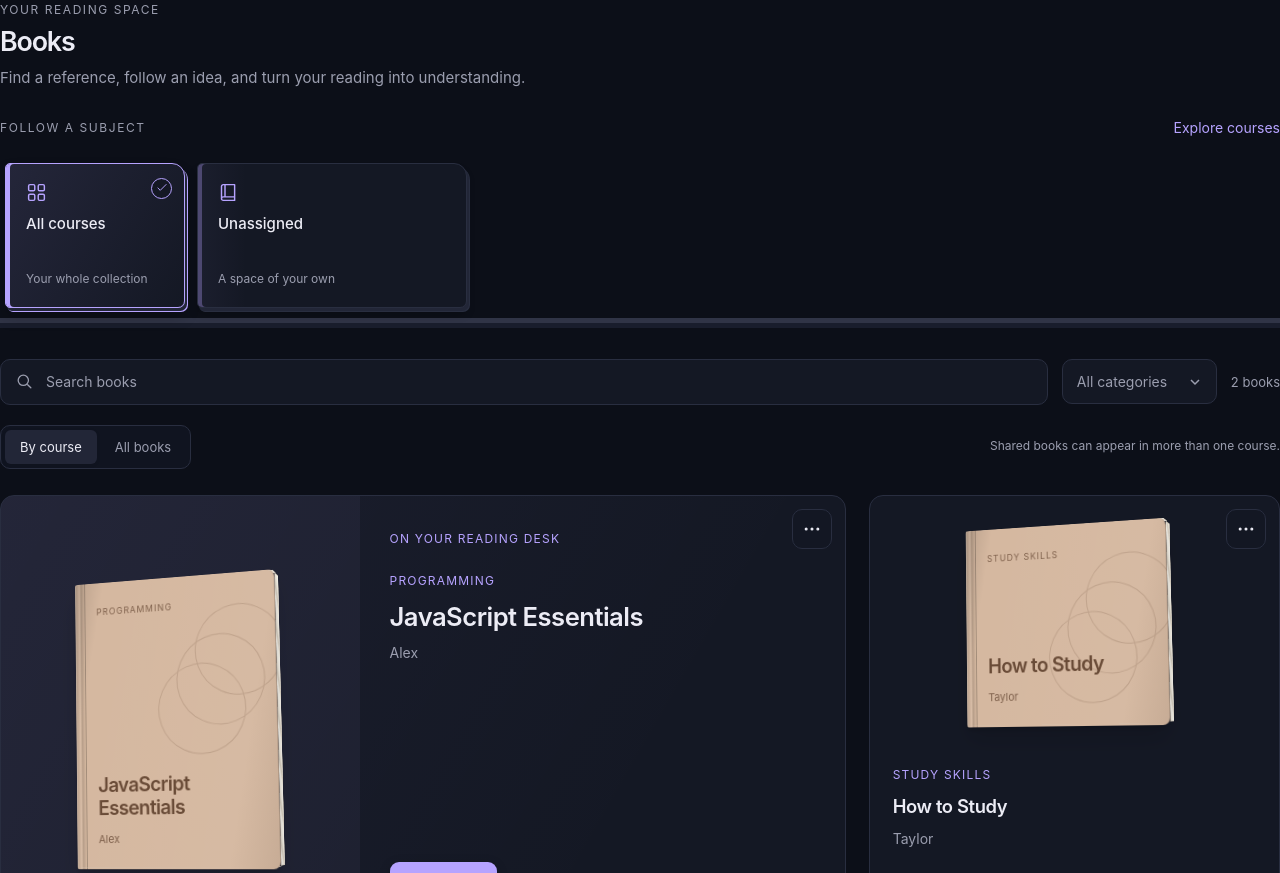
Test: organized collections › searches books by author and filters by category
This screenshot has width=1280, height=873.
Expected: the heading "JavaScript Essentials" is shown, [390,601,643,632]
Type "taylor" into the search field labelled "Search books" at (538, 382), box [44,360,1033,404]
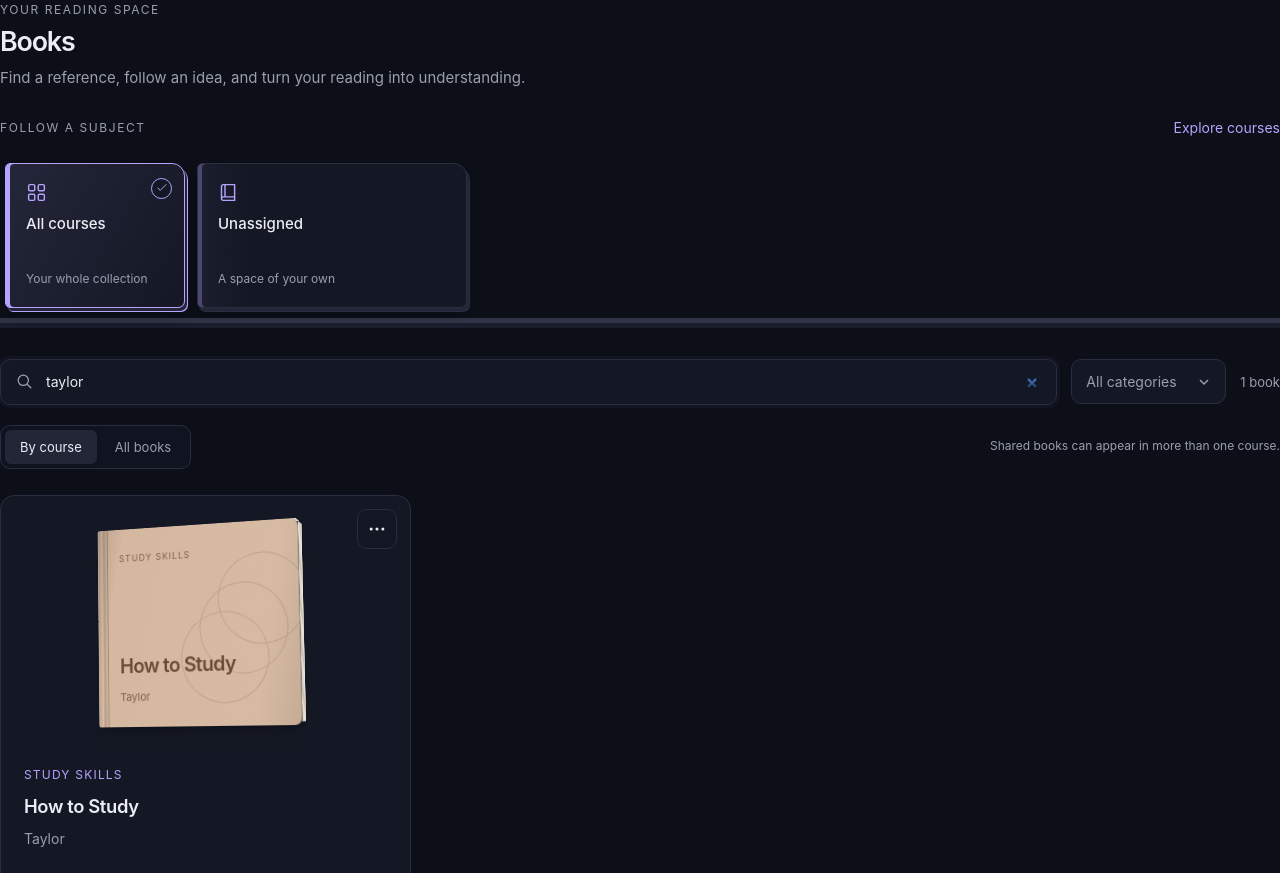
Expected: the heading "How to Study" is shown, [24,796,139,818]
Expected: the link "JavaScript Essentials" is gone
Clear the search field named "Search books" at (543, 382), box [44,360,1042,404]
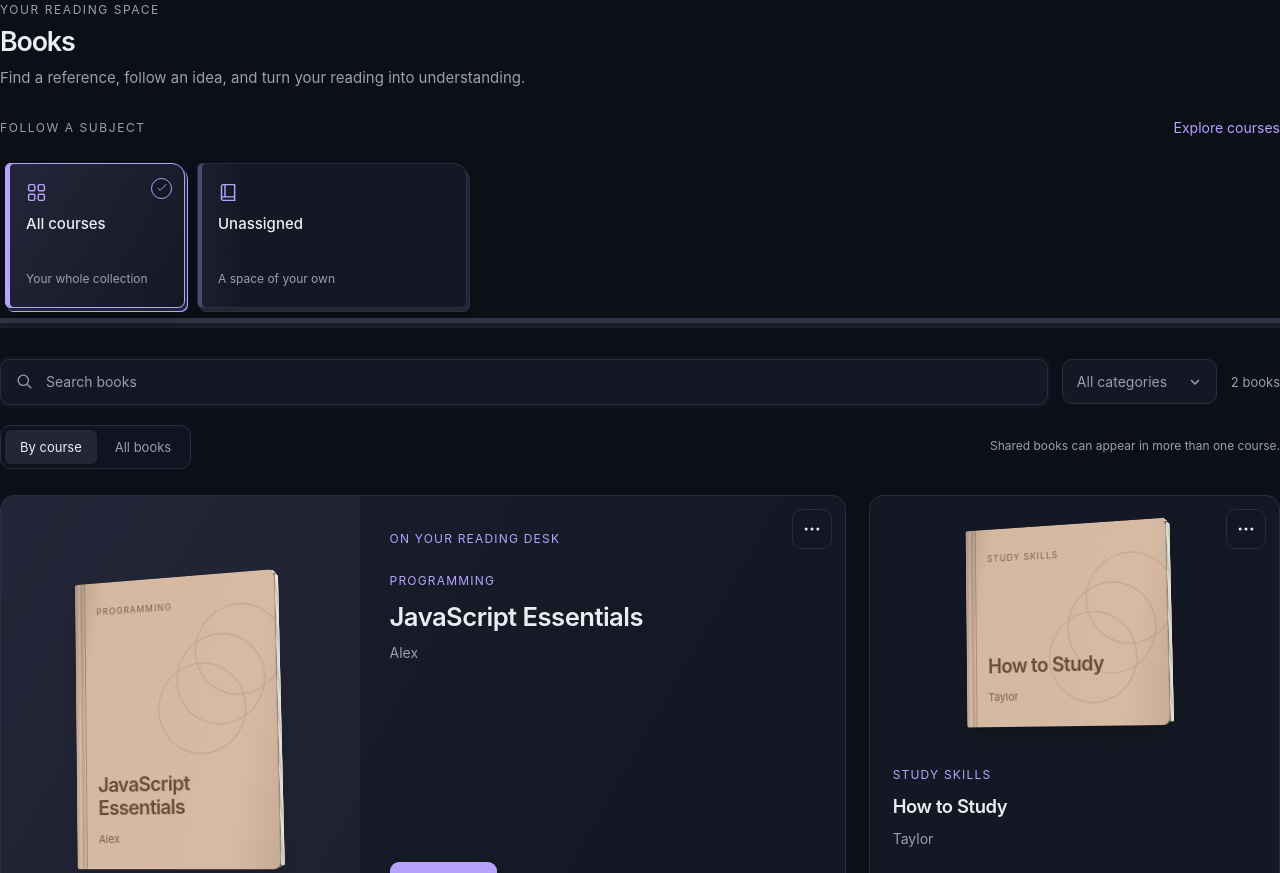
Select "Programming" in the dropdown named "Filter by category" at (1139, 382), box [1062,359,1217,404]
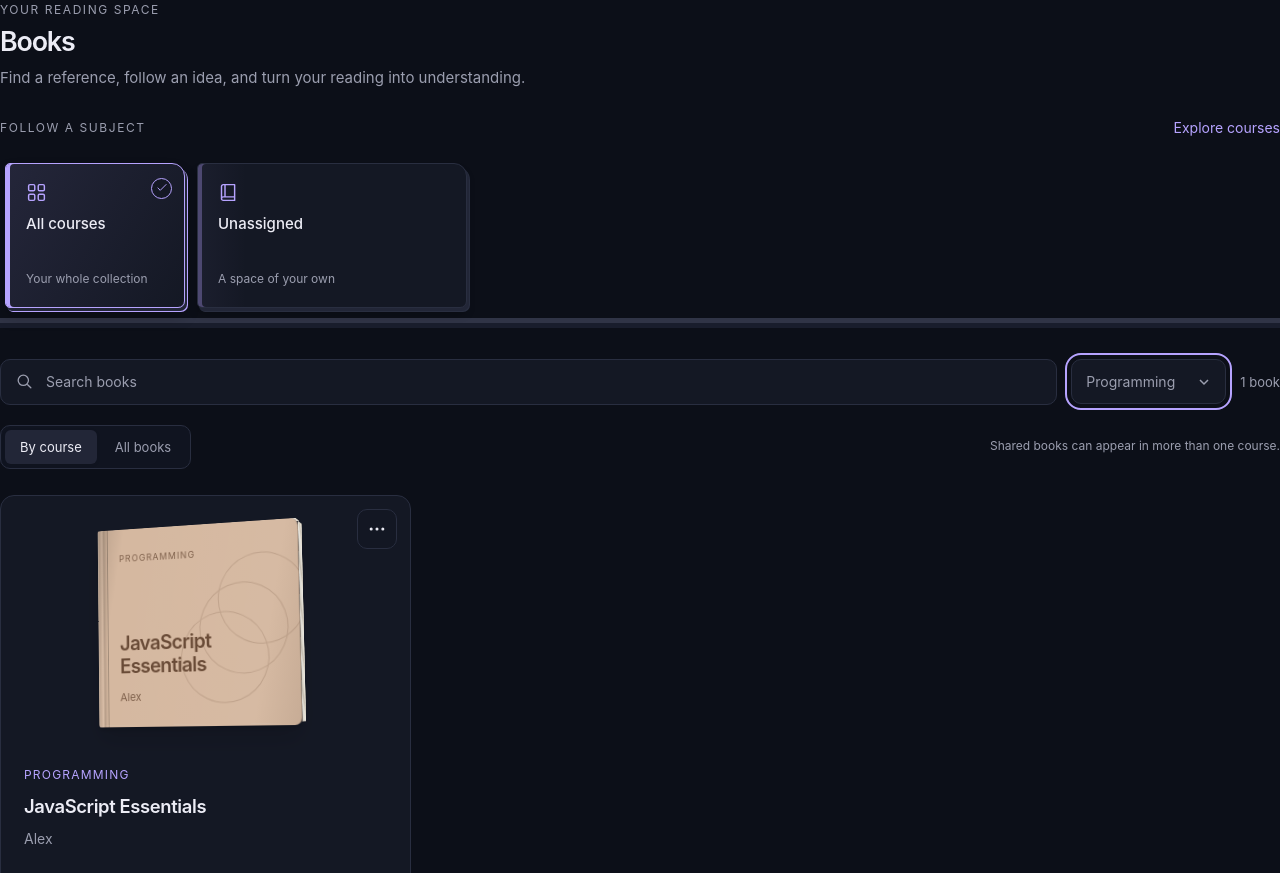
Expected: the heading "JavaScript Essentials" is shown, [24,796,206,818]
Expected: the link "How to Study" is gone
